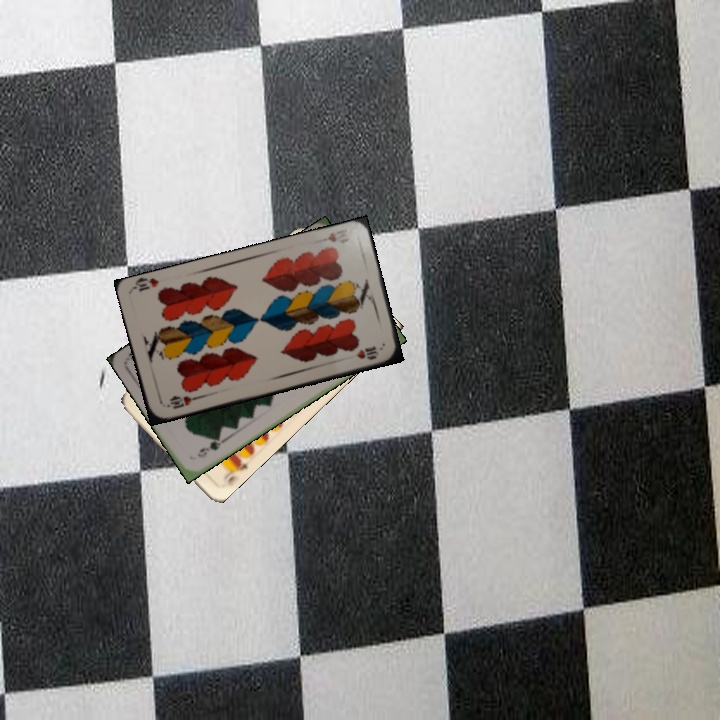E10: (218, 454, 250, 490)
G9: (193, 433, 224, 460)
H10: (162, 392, 201, 411), (314, 228, 352, 246)
